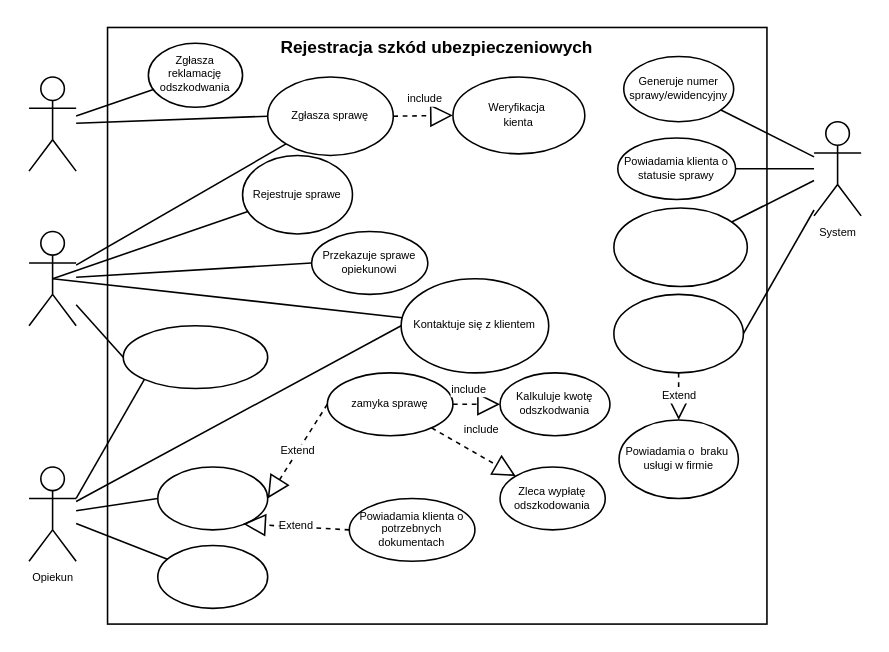
This 889x652 diagram has some shape labels left out. Each missing label, with the centre of its shape:
edytuje sprawę: the point at 195,356
Klient: the point at 51,123
Konsultant: the point at 51,278
Rozpatruje reklamację odszkodowania: the point at 212,576
Rozpatruje sprawę: the point at 212,498
Sprawdza czy klient ma wykupione ubezpieczanie w firmie: the point at 677,333
Usuwa zakończone sprawy: the point at 679,246
